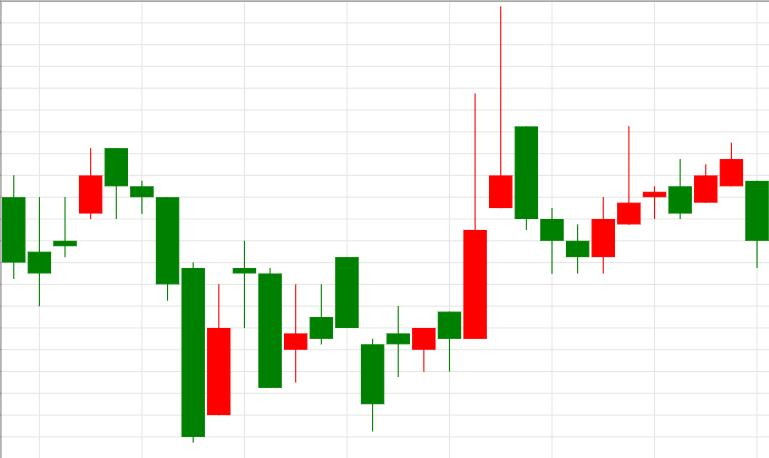shooting_star_fall: (361, 6, 513, 432)
